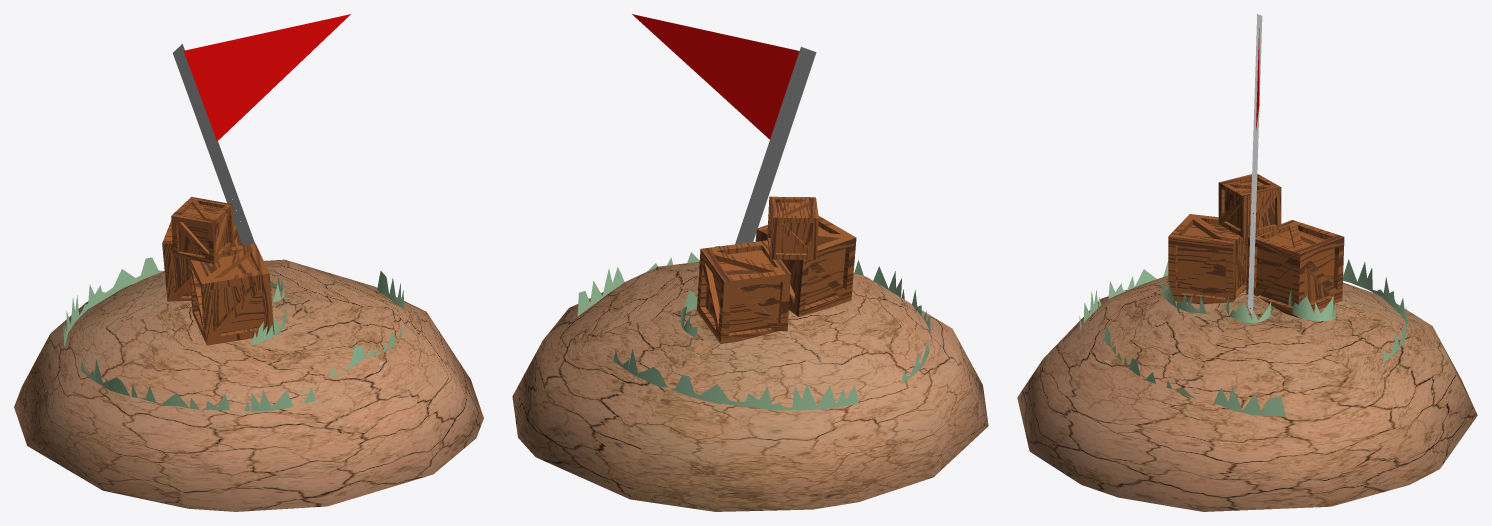
File: pre_torretta.glb
The picture shows the model from 3 angles, left to right: view 1: azimuth 30°, elevation 25°; view 2: azimuth 150°, elevation 25°; view 3: azimuth 270°, elevation 25°; orthographic projection. The views are drawn at different scales.
Visible parts, largest first — view 1: Livello_01; view 2: Livello_01; view 3: Livello_01.
Boxes of the visible parts, x1,y1,x2,y2 form: Livello_01: (14, 14, 483, 511); Livello_01: (512, 14, 988, 511); Livello_01: (1017, 14, 1477, 511).
Bounding box in the file's own units: 5.47 × 4.91 × 5.52.
Materials: 5 (2 with a texture image).
